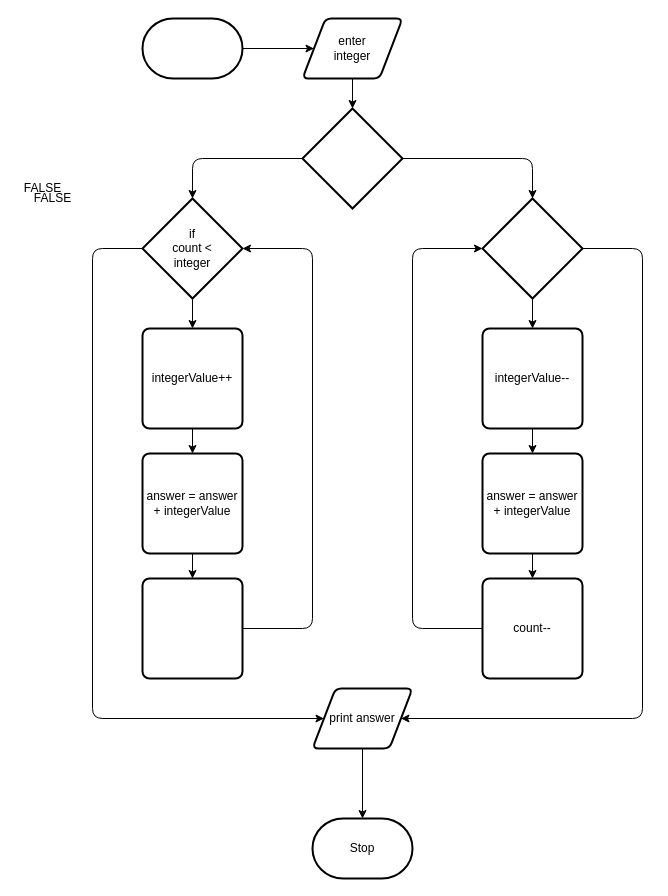
The diagram is 668 pixels wide and 896 high, and some of its shapes have lost their labels. Here are the shapes that lost their labels. From the top down, the centre of each, then its label:
pixel 192 48: Start
pixel 352 158: if integer >= 0
pixel 532 248: if count > integer
pixel 192 628: count++
